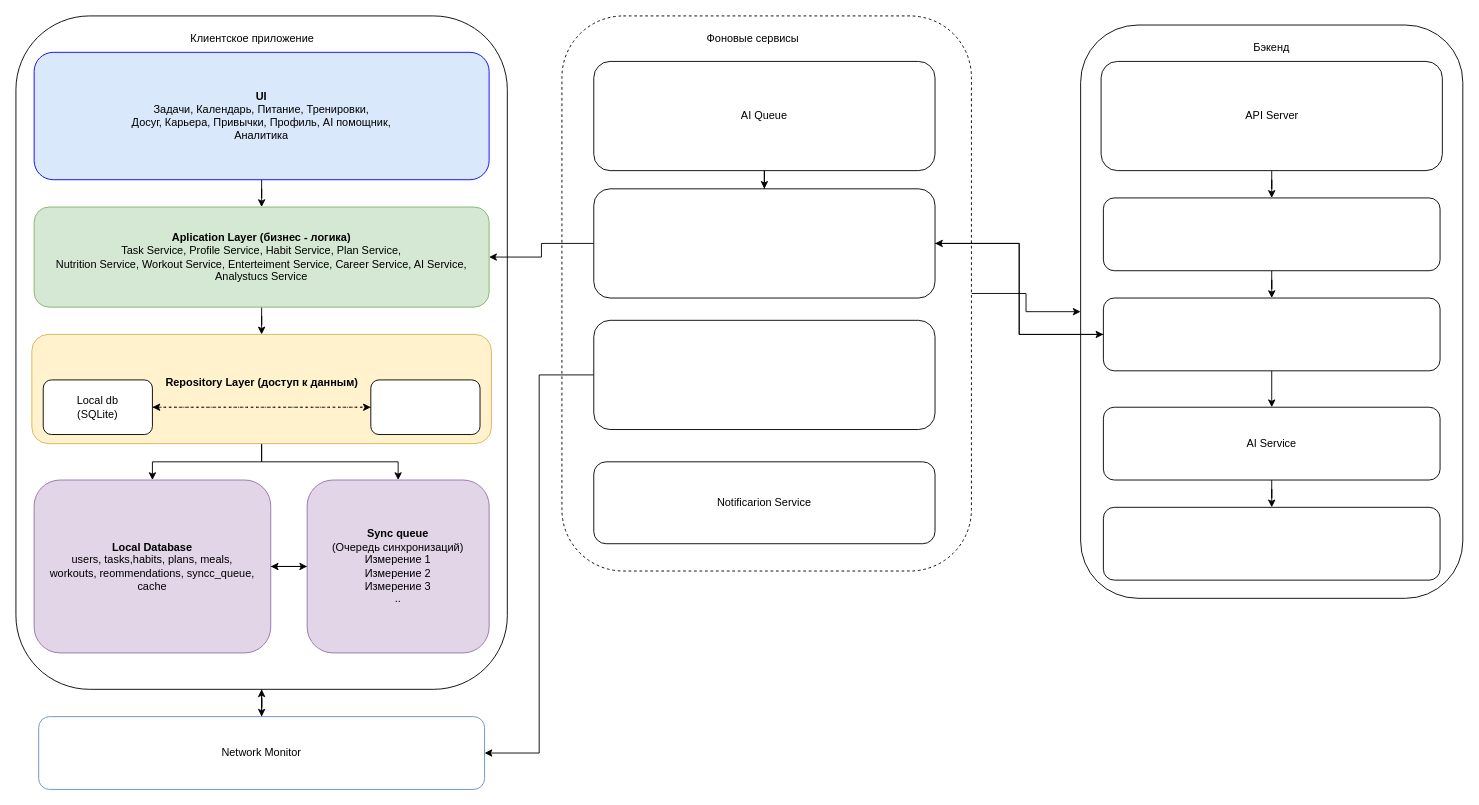
This 1479x805 diagram has some shape labels left out. The shapes that lost their labels are listed below. From the top down, each one's centre as x and y in pixels, then its label:
At point 764,243: "AI Worker".
At point 1271,234: "База данных".
At point 1271,334: "Очередь задач".
At point 764,374: "Sync Manager".
At point 425,407: "Remote repository (Api Client)".
At point 1271,543: "LLM".
